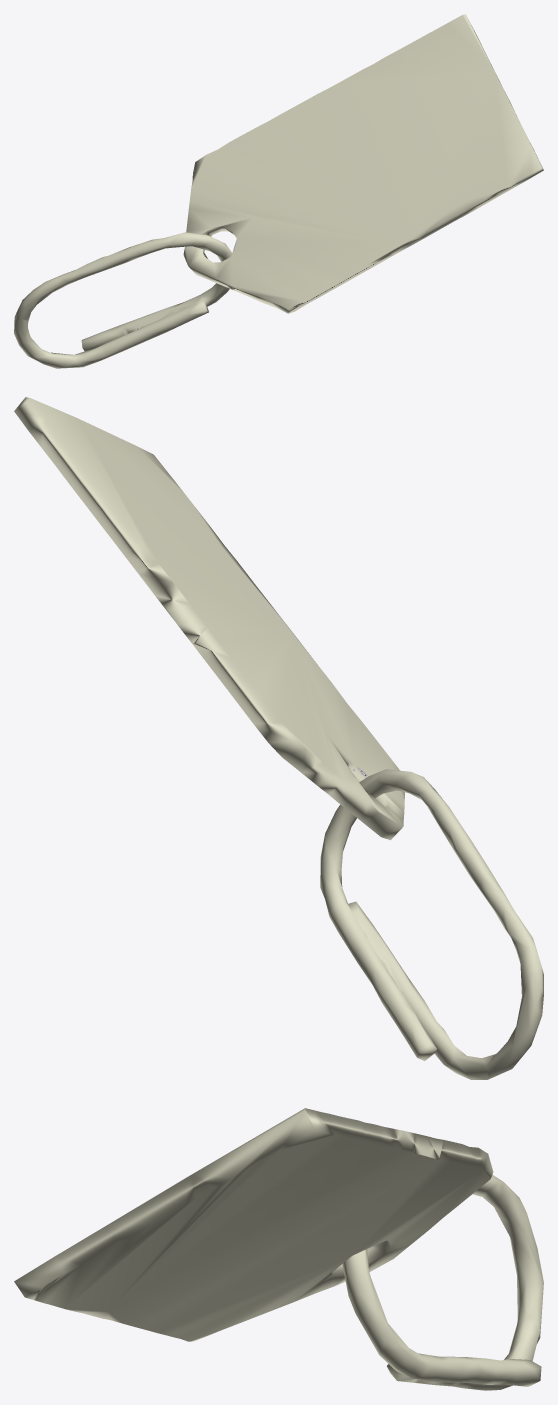
The model's file is Evidence Tag_LOD1.fbx.
The picture shows the model from 3 angles, top to bottom: view 1: azimuth 30°, elevation 25°; view 2: azimuth 150°, elevation 25°; view 3: azimuth 270°, elevation 25°; orthographic projection. The views are drawn at different scales.
Visible parts, largest first — view 1: Layer_1, Layer_2; view 2: Layer_1, Layer_2; view 3: Layer_1, Layer_2.
Boxes of the visible parts, left/top/right/bottom form: Layer_1: left=183, top=14, right=543, bottom=313; Layer_2: left=14, top=232, right=232, bottom=368; Layer_1: left=14, top=397, right=404, bottom=840; Layer_2: left=320, top=769, right=543, bottom=1079; Layer_1: left=14, top=1108, right=493, bottom=1341; Layer_2: left=342, top=1175, right=543, bottom=1390.
Size of the model in its own units: 0.3454 by 0.2179 by 0.2601.
Materials: 1 (1 with a texture image).
